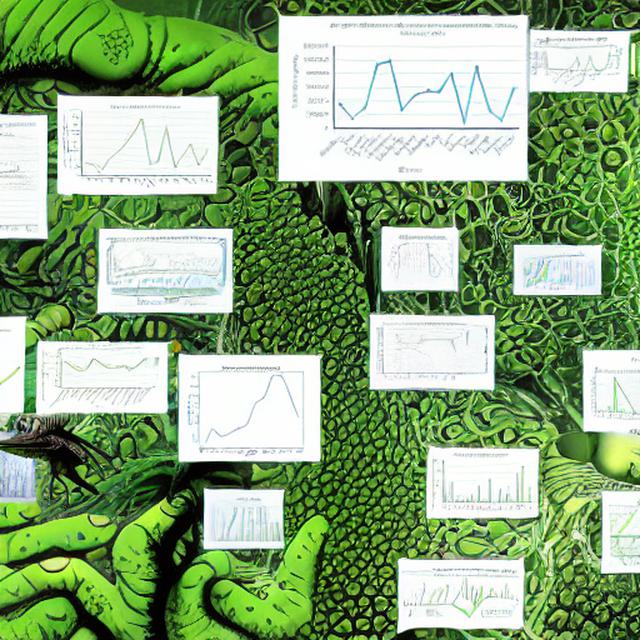Graph: (288, 17, 525, 178), (60, 102, 214, 191), (182, 359, 317, 460), (39, 345, 153, 410), (429, 452, 533, 514), (532, 47, 605, 88), (374, 342, 440, 379)
